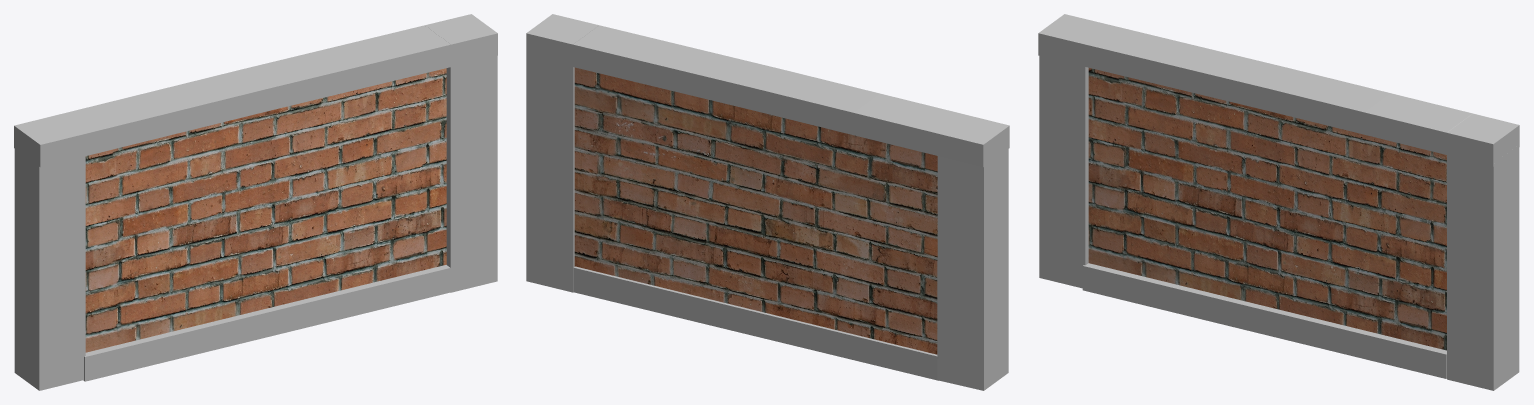
The model's file is HouseHalfBrickWall_HALFLOW.fbx.
3 renders of one model, left to right at view 1: azimuth 30°, elevation 25°; view 2: azimuth 150°, elevation 25°; view 3: azimuth 330°, elevation 25°, orthographic.
Parts seen in each view (by area): view 1: polySurface1; view 2: polySurface1; view 3: polySurface1.
Part boxes in pixels (bbox=[...]): polySurface1: bbox=[14, 14, 497, 390]; polySurface1: bbox=[526, 14, 1009, 390]; polySurface1: bbox=[1038, 14, 1519, 390].
Size of the model in its own units: 250 by 130 by 25.
